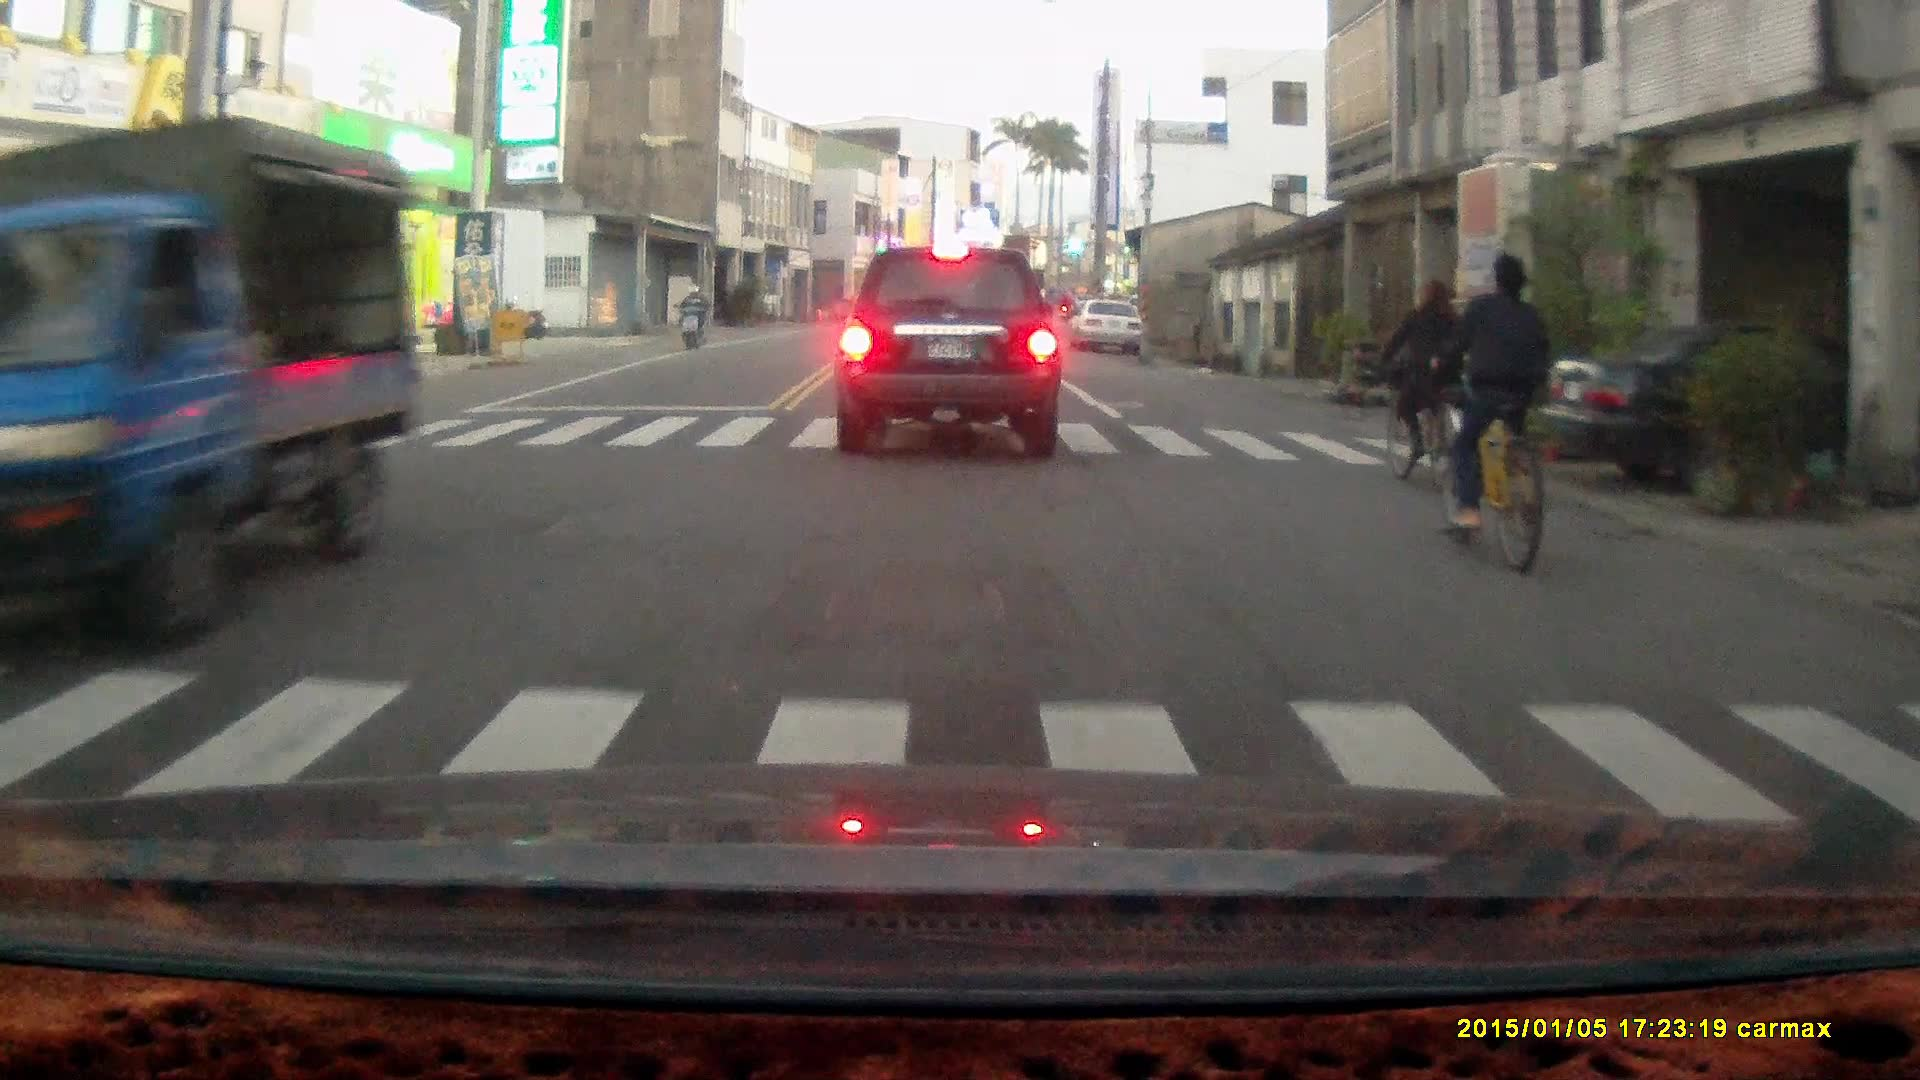rider: (1423, 253, 1549, 578), (1377, 278, 1465, 498), (676, 280, 707, 352)
vehicle: (1, 113, 417, 653), (1537, 317, 1920, 503), (831, 245, 1066, 459), (1071, 299, 1147, 357)
